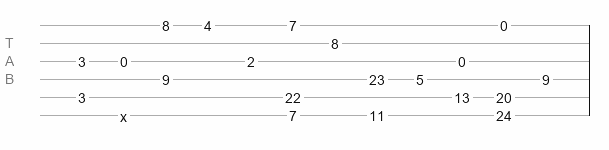0: (120, 54, 128, 64), (458, 54, 466, 64), (500, 18, 508, 28)
11: (369, 108, 385, 118)
13: (454, 90, 470, 100)
2: (247, 54, 255, 64)
20: (496, 90, 512, 100)
22: (285, 90, 301, 100)
23: (369, 72, 385, 82)
24: (496, 108, 512, 118)
3: (78, 90, 86, 100), (78, 54, 86, 64)
4: (204, 18, 212, 28)
5: (416, 72, 424, 82)
7: (289, 108, 297, 118), (289, 18, 297, 28)
8: (162, 18, 170, 28), (331, 36, 339, 46)
9: (162, 72, 170, 82), (542, 72, 550, 82)
x: (120, 109, 127, 117)
